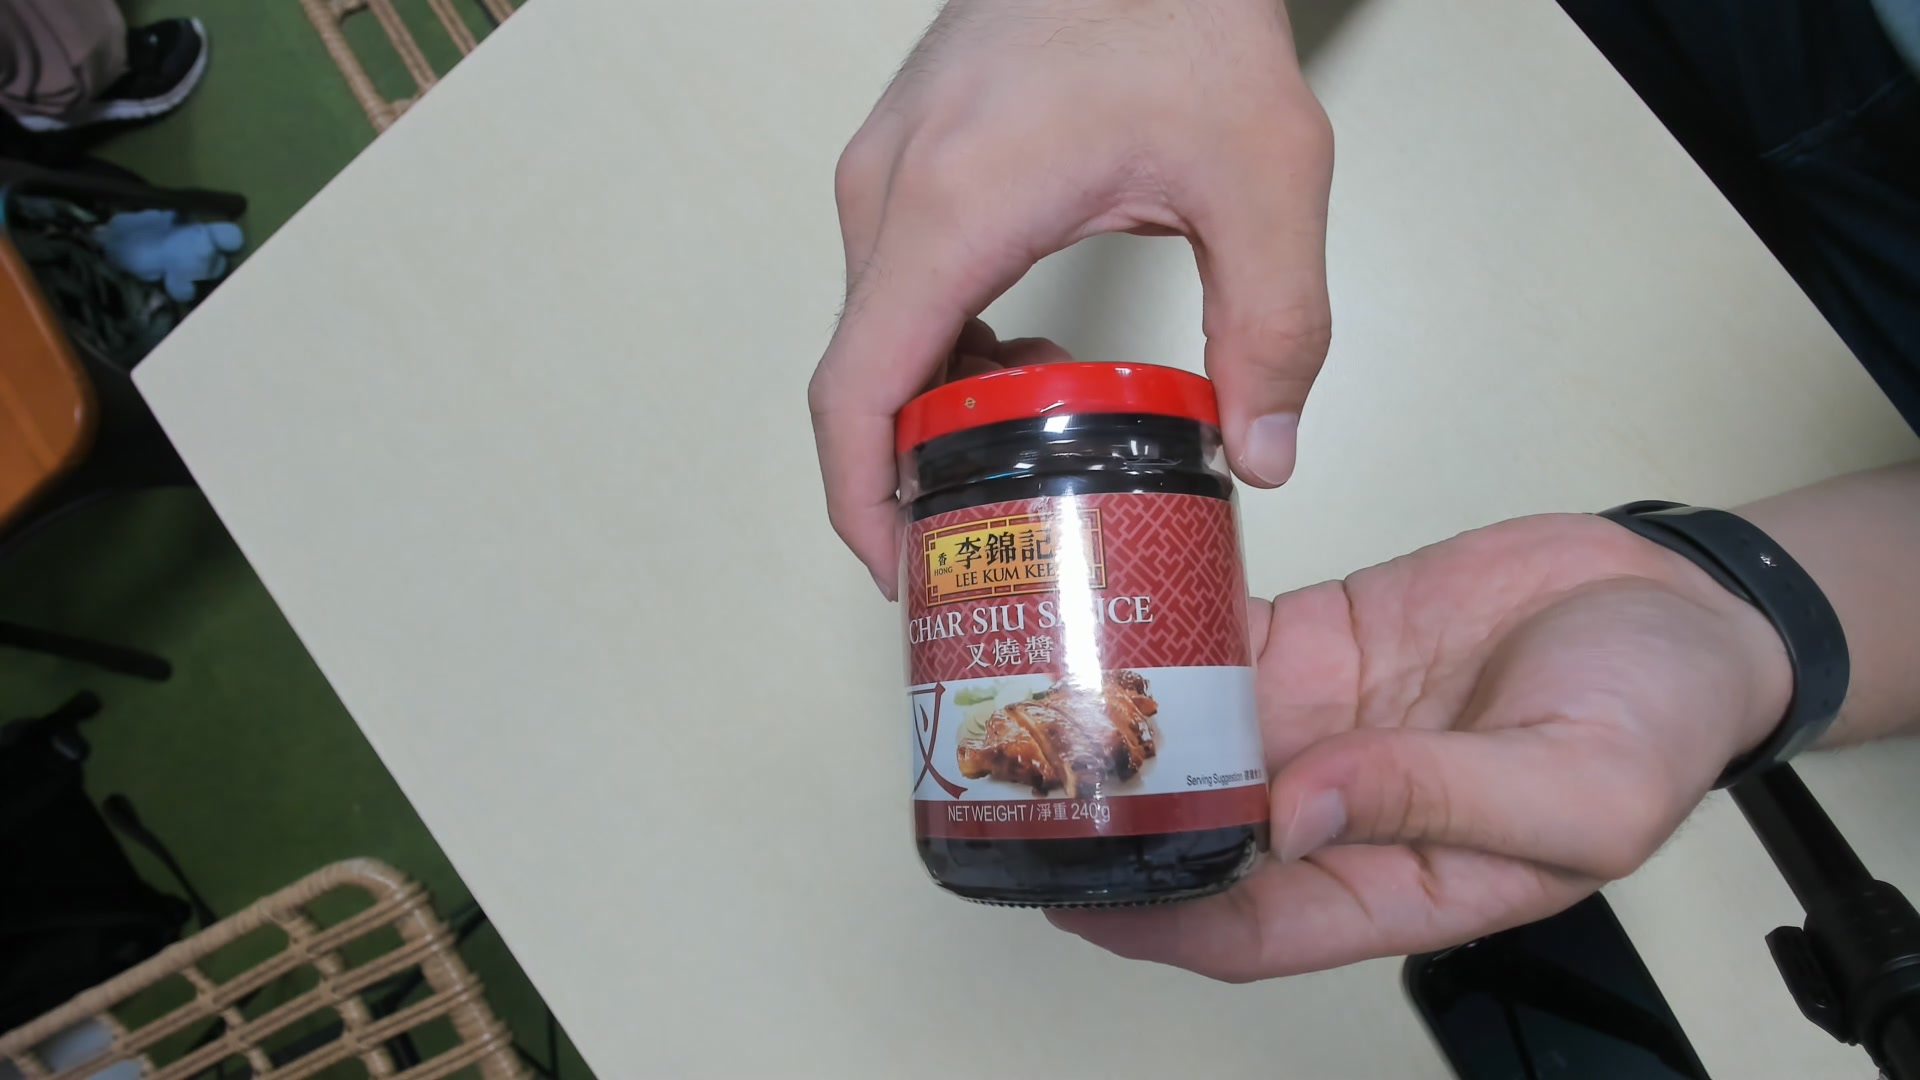OtherSauceDressing_200-299g_NonHalal_NonHealthy: (887, 357, 1280, 914)
